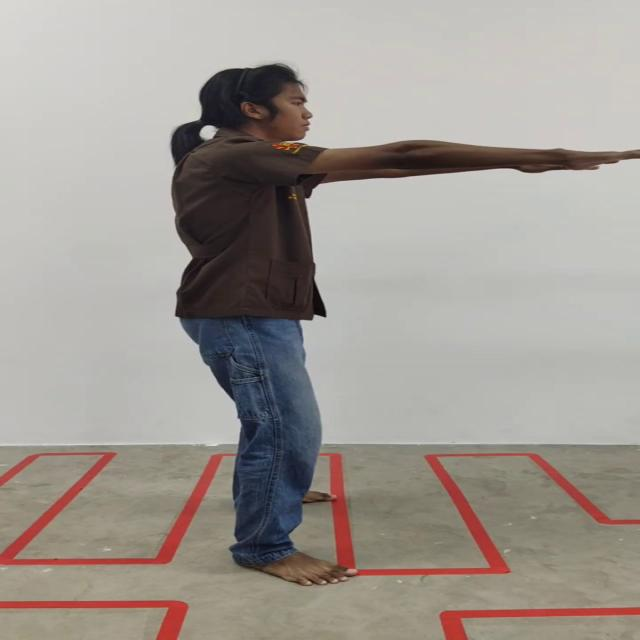stand: (172, 62, 620, 589)
